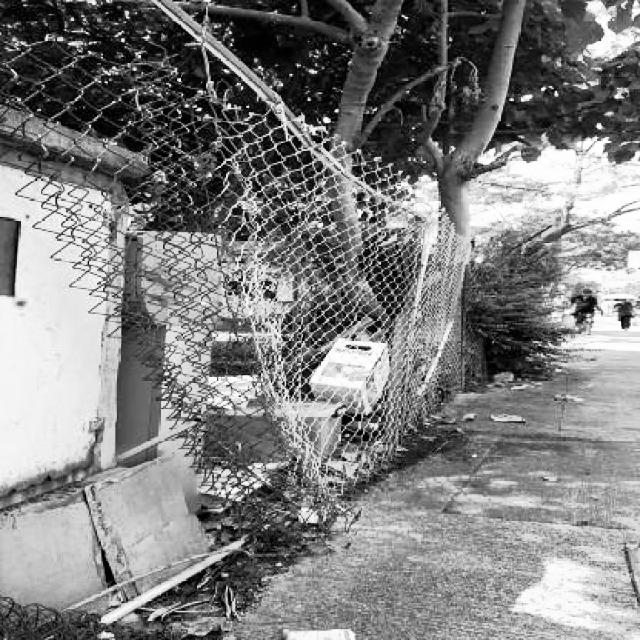anomaly-fence: (0, 44, 349, 640)
